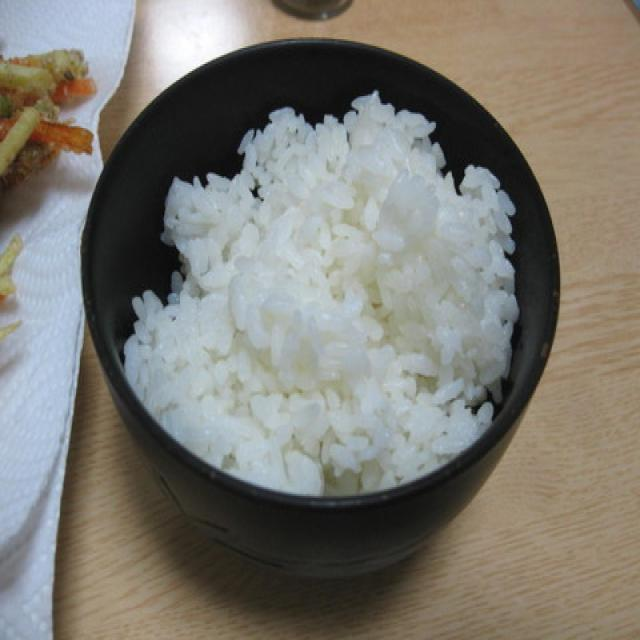Rice: (124, 91, 517, 496)
